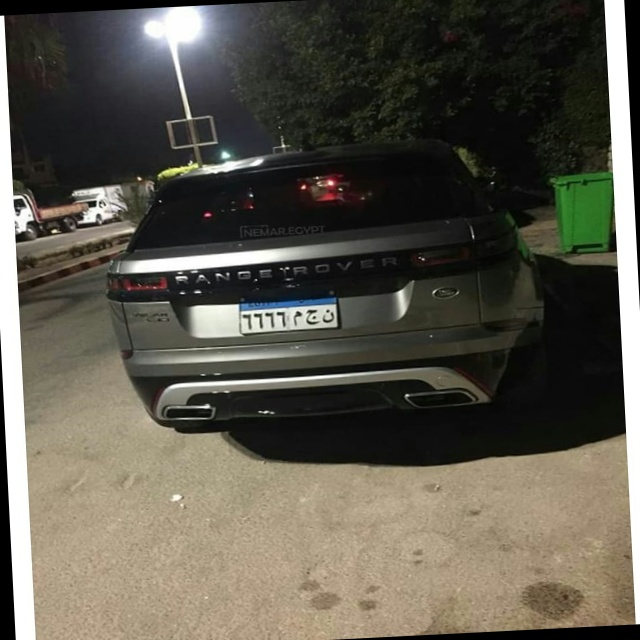License Plate: (234, 288, 343, 336)
